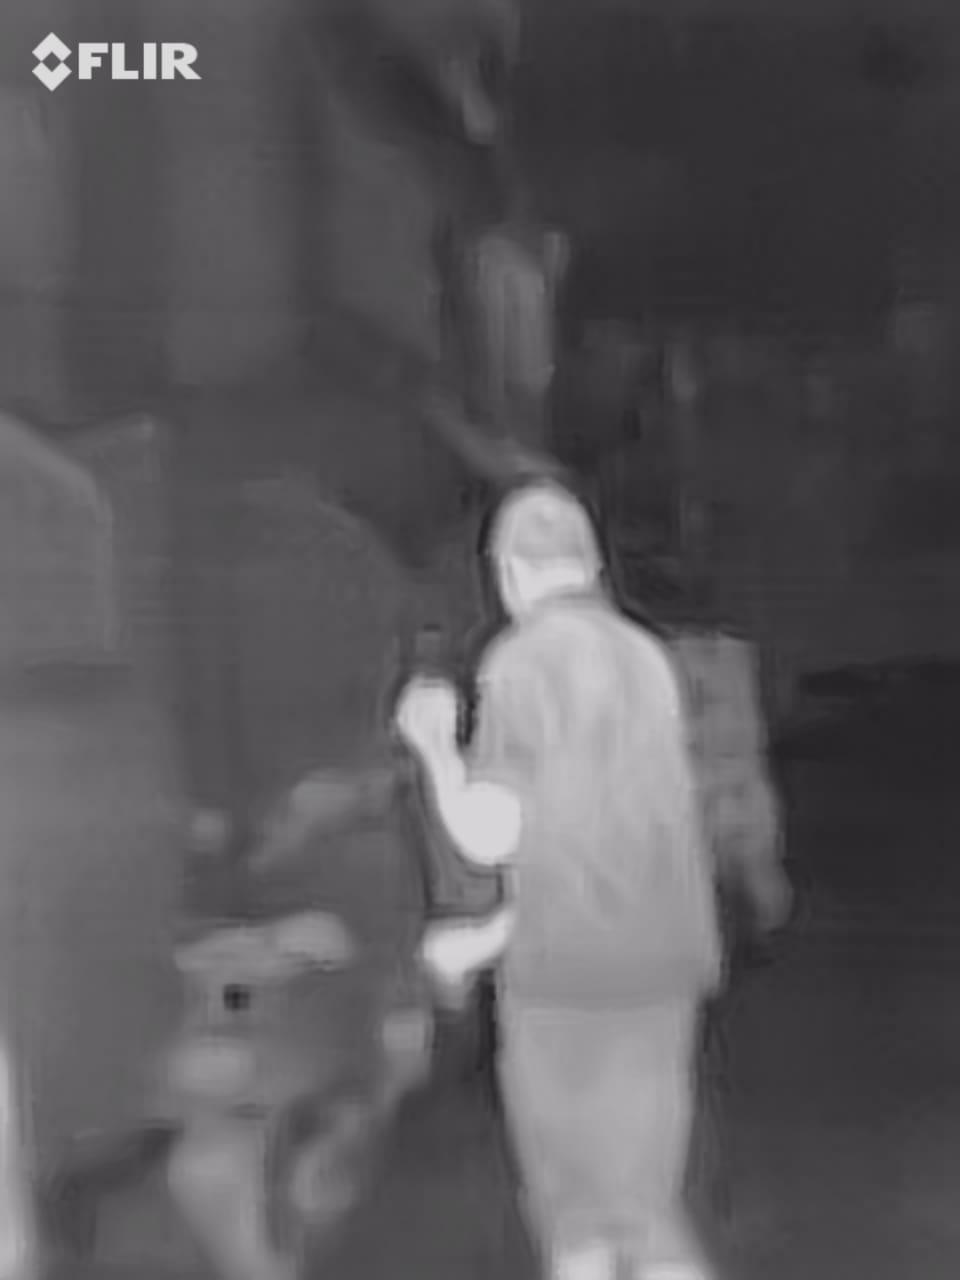head: (467, 465, 618, 634)
